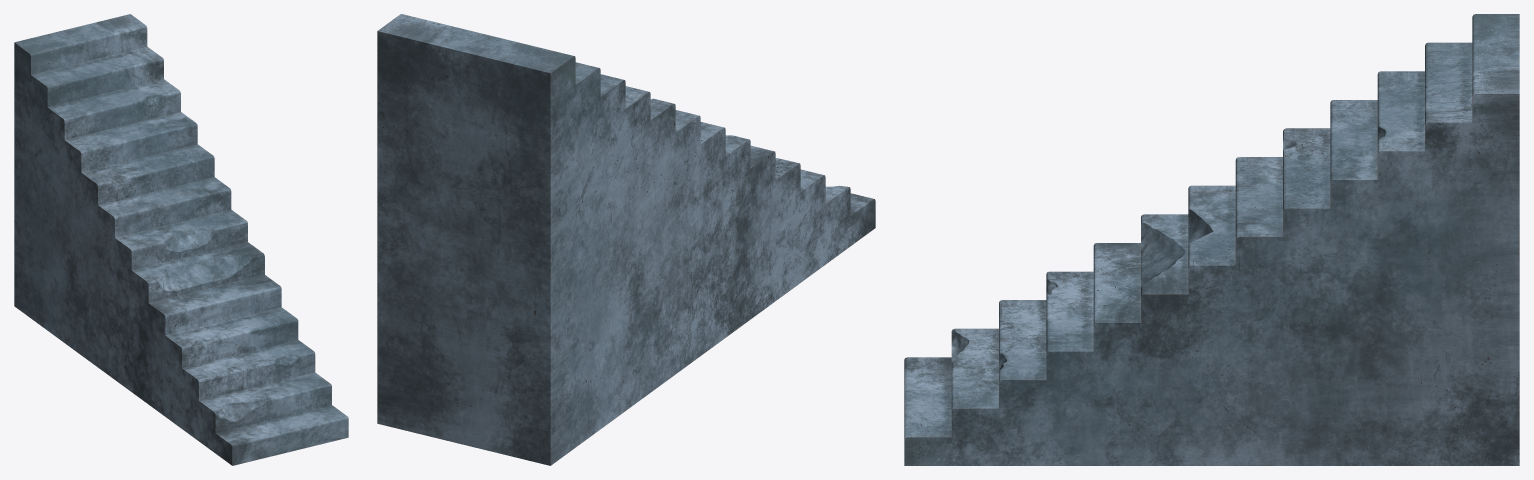
File: object_stairs.fbx
The picture shows the model from 3 angles, left to right: view 1: azimuth 30°, elevation 25°; view 2: azimuth 150°, elevation 25°; view 3: azimuth 270°, elevation 25°; orthographic projection. The views are drawn at different scales.
Visible parts, largest first — view 1: stairs_sideR, step5, step7, step2, step3, step4, step6, step8, step9, step10, step11, step12 (+2 smaller); view 2: stairs_sideR, stairs_back, step13; view 3: stairs_sideL, step1, step2, step4, step6, step7, step9, step11, step12, step3, step5, step8 (+2 smaller).
Boxes of the visible parts, bbox=[...] form: stairs_sideR: bbox=[14, 43, 232, 465]; step5: bbox=[149, 274, 281, 335]; step7: bbox=[115, 209, 247, 270]; step2: bbox=[199, 372, 331, 433]; step3: bbox=[182, 340, 315, 400]; step4: bbox=[166, 307, 298, 367]; step6: bbox=[132, 242, 264, 302]; step8: bbox=[98, 177, 231, 237]; step9: bbox=[82, 144, 214, 204]; step10: bbox=[65, 112, 197, 172]; step11: bbox=[48, 79, 180, 139]; step12: bbox=[31, 46, 163, 107]; stairs_sideR: bbox=[550, 56, 875, 465]; stairs_back: bbox=[377, 31, 550, 465]; step13: bbox=[378, 14, 574, 73]; stairs_sideL: bbox=[904, 94, 1519, 465]; step1: bbox=[904, 357, 951, 439]; step2: bbox=[951, 328, 998, 410]; step4: bbox=[1046, 271, 1093, 353]; step6: bbox=[1141, 214, 1188, 296]; step7: bbox=[1188, 185, 1235, 267]; step9: bbox=[1283, 128, 1330, 210]; step11: bbox=[1377, 71, 1424, 153]; step12: bbox=[1425, 42, 1472, 124]; step3: bbox=[999, 300, 1046, 381]; step5: bbox=[1093, 243, 1140, 324]; step8: bbox=[1235, 157, 1282, 239].
Size of the model in its own units: 120 by 260 by 390.
